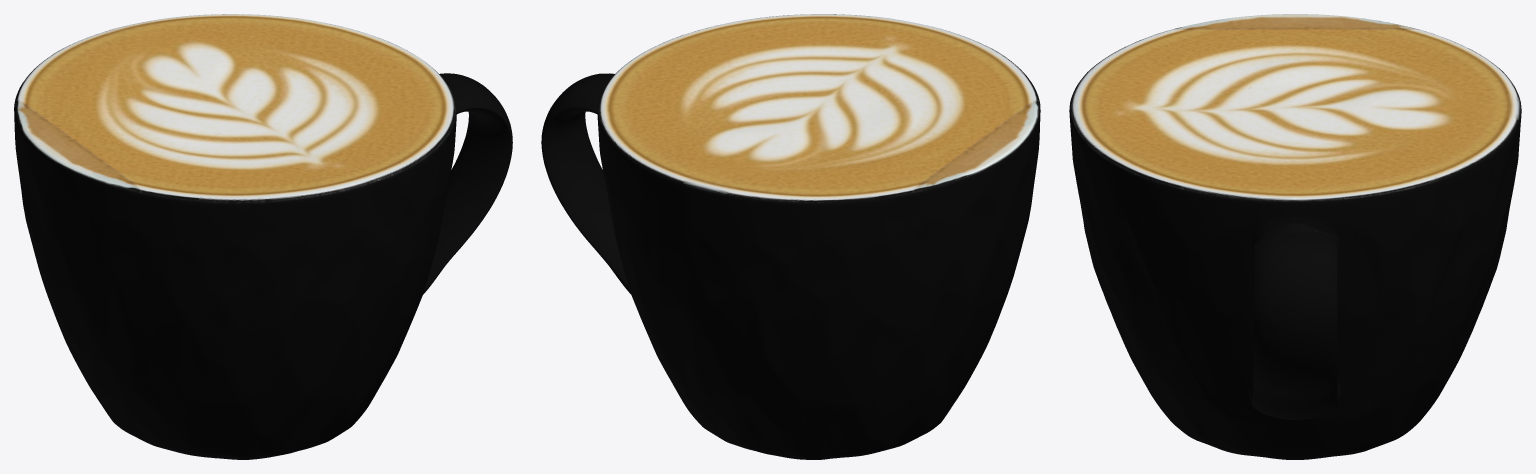
Rendered from coffee-cup.glb.
The picture shows the model from 3 angles, left to right: view 1: azimuth 30°, elevation 25°; view 2: azimuth 150°, elevation 25°; view 3: azimuth 270°, elevation 25°; orthographic projection.
Bounding box in the file's own units: 1.9 × 1.27 × 1.62.
Materials: 1 (1 with a texture image).
